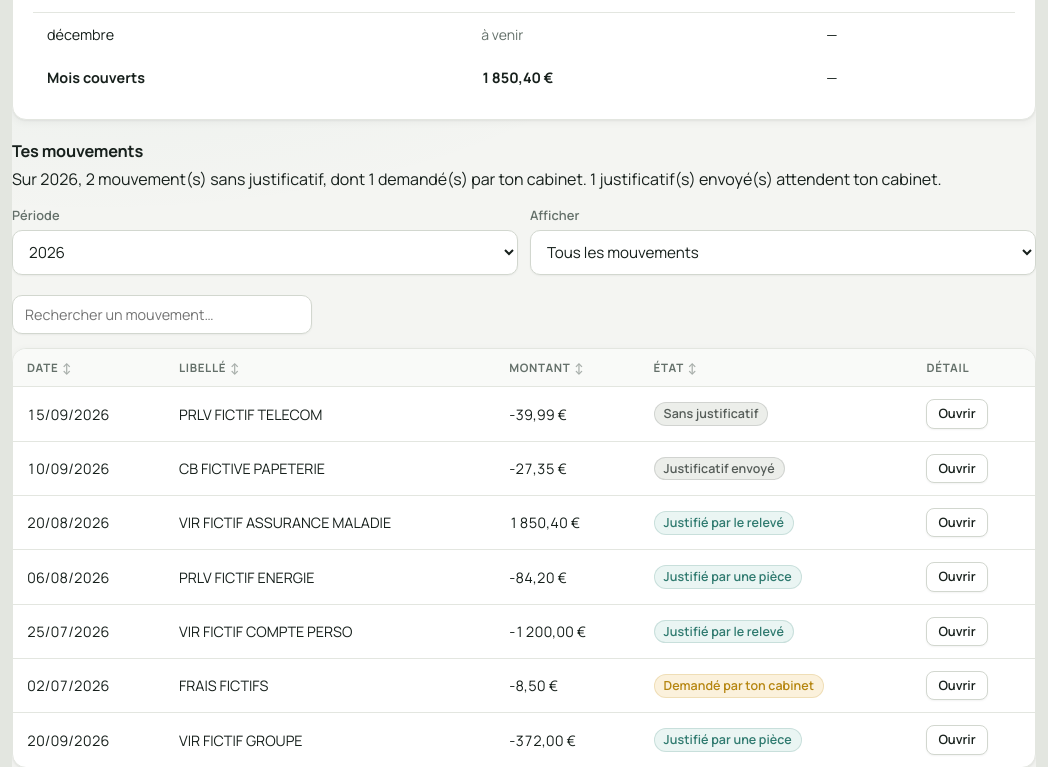
les lectures partielles, table par table › les pièces : pas de choix d’une pièce déjà déposée, le dépôt reste offert
The image size is (1048, 767).
(page scrolled)
Click the button "Ouvrir" in the row of "15/09/2026" at [957, 414], box [926,399,988,429]
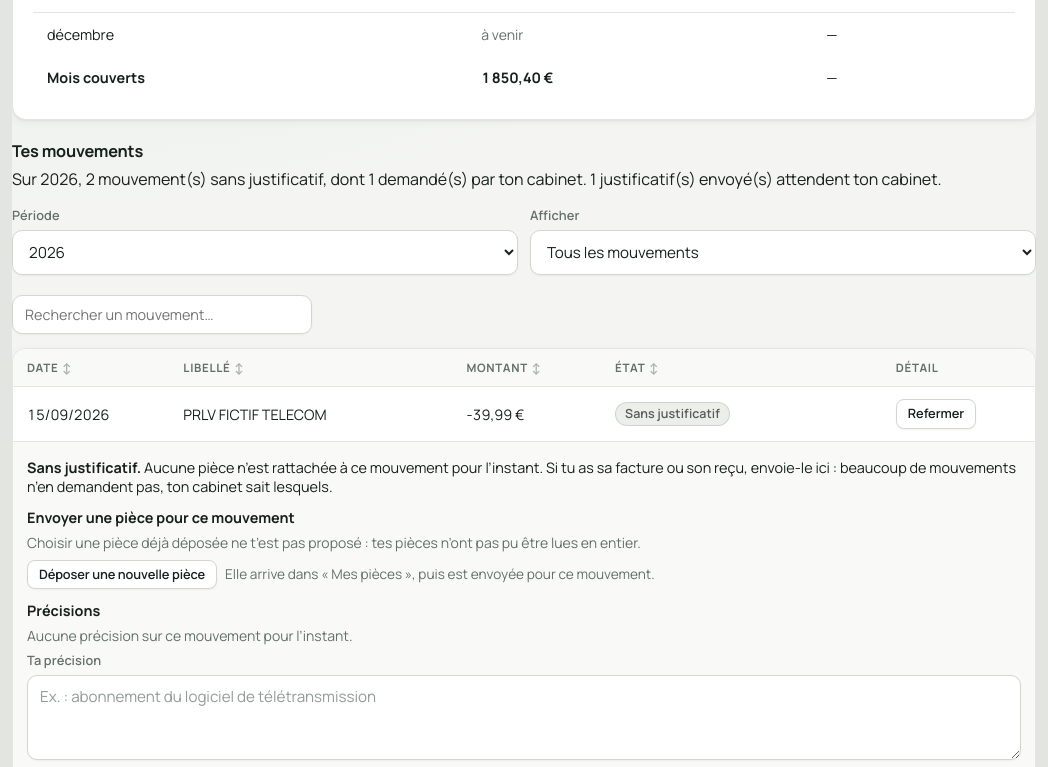
Expected: the file field "Déposer une nouvelle pièce" is shown, [27,560,217,589]
